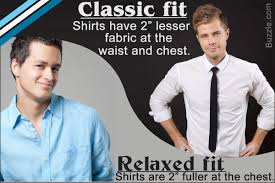F_shirt: (148, 57, 273, 154)
F_tie: (209, 62, 221, 155)
